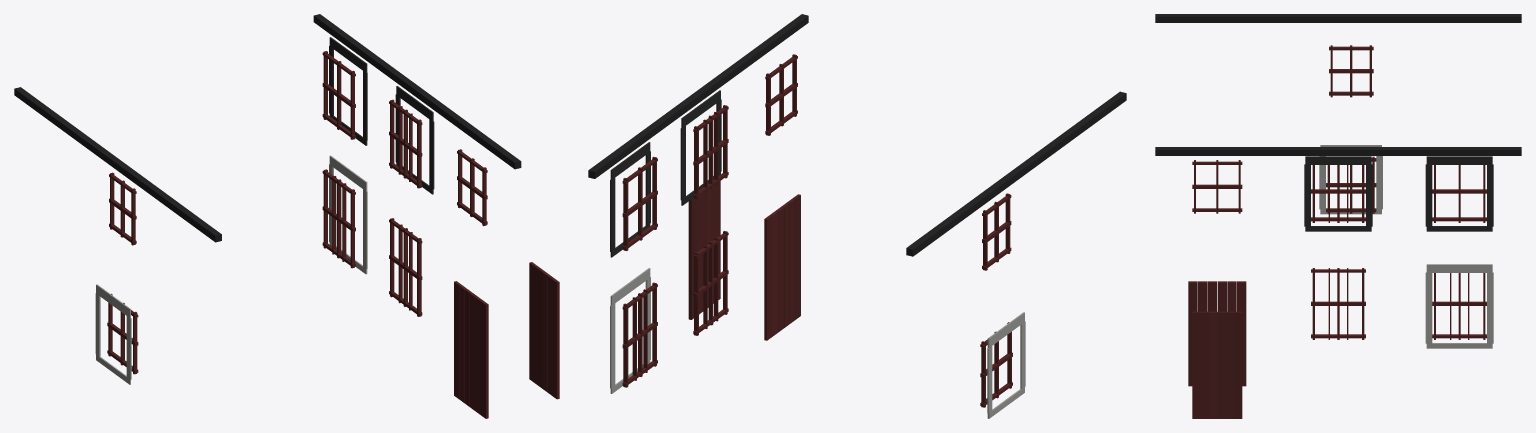
File: SM_Bld_041_Wood.glb
3 renders of one model, left to right at view 1: azimuth 30°, elevation 25°; view 2: azimuth 150°, elevation 25°; view 3: azimuth 270°, elevation 25°, orthographic. The views are drawn at different scales.
Visible parts, largest first — view 1: SM_Bld_041_Wood; view 2: SM_Bld_041_Wood; view 3: SM_Bld_041_Wood.
Boxes of the visible parts, left/top/right/bottom form: SM_Bld_041_Wood: left=14, top=14, right=559, bottom=418; SM_Bld_041_Wood: left=588, top=14, right=1126, bottom=418; SM_Bld_041_Wood: left=1155, top=14, right=1521, bottom=418.
Bounding box in the file's own units: 6.86 × 4.8 × 6.56.
